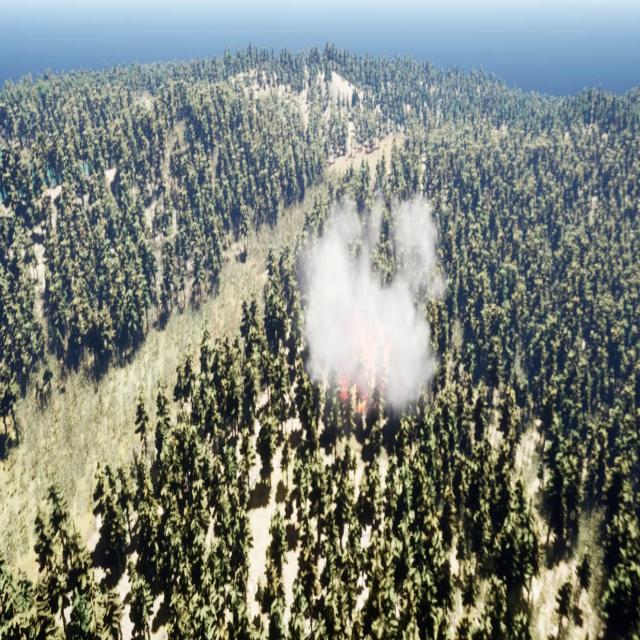smoke: (296, 193, 452, 418)
